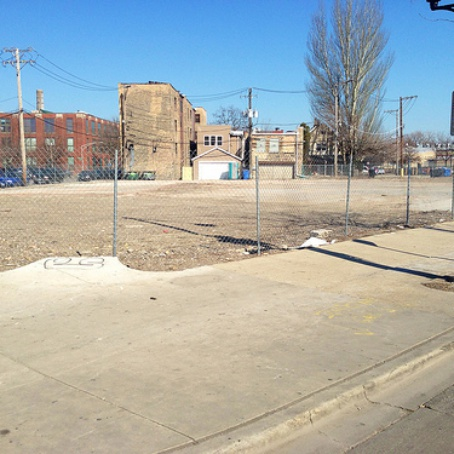building: (2, 106, 110, 186), (118, 80, 193, 180), (191, 122, 246, 181), (249, 128, 302, 181)
power pole: (5, 45, 39, 190)
sidewalk: (15, 231, 454, 450)
sky: (1, 1, 454, 117)
tree: (305, 1, 393, 178)
